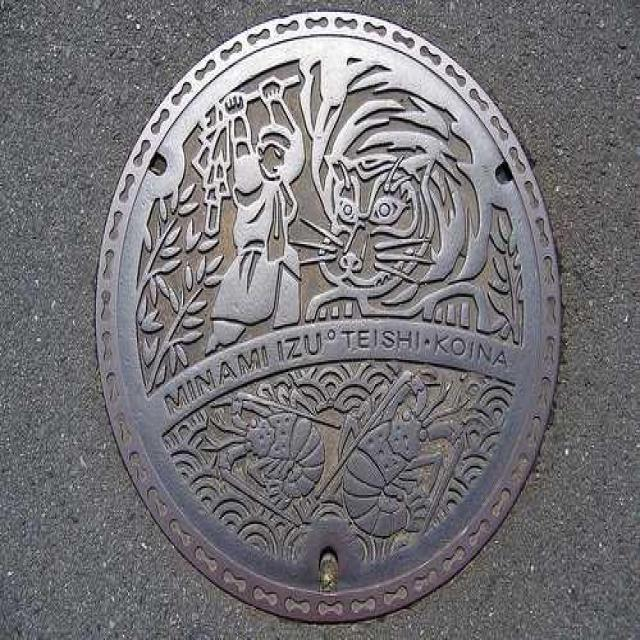manhole: (96, 12, 561, 622)
